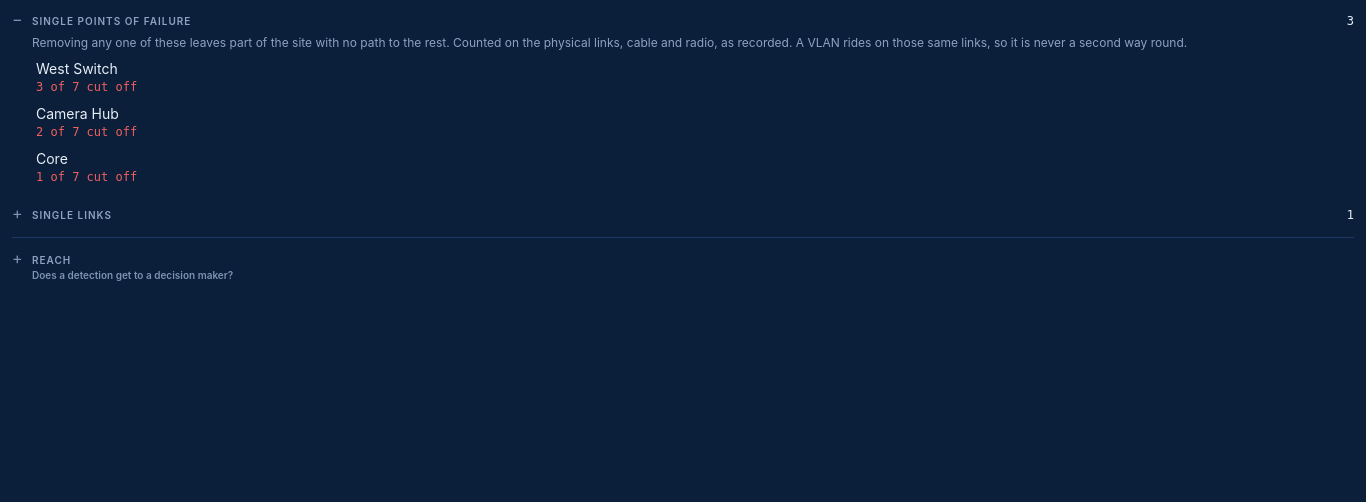
Scenario: Single links › names what a single link cuts off
The image size is (1366, 502).
Click the button "+ Single links 1" at [72, 215], box [12,197,1354,229]
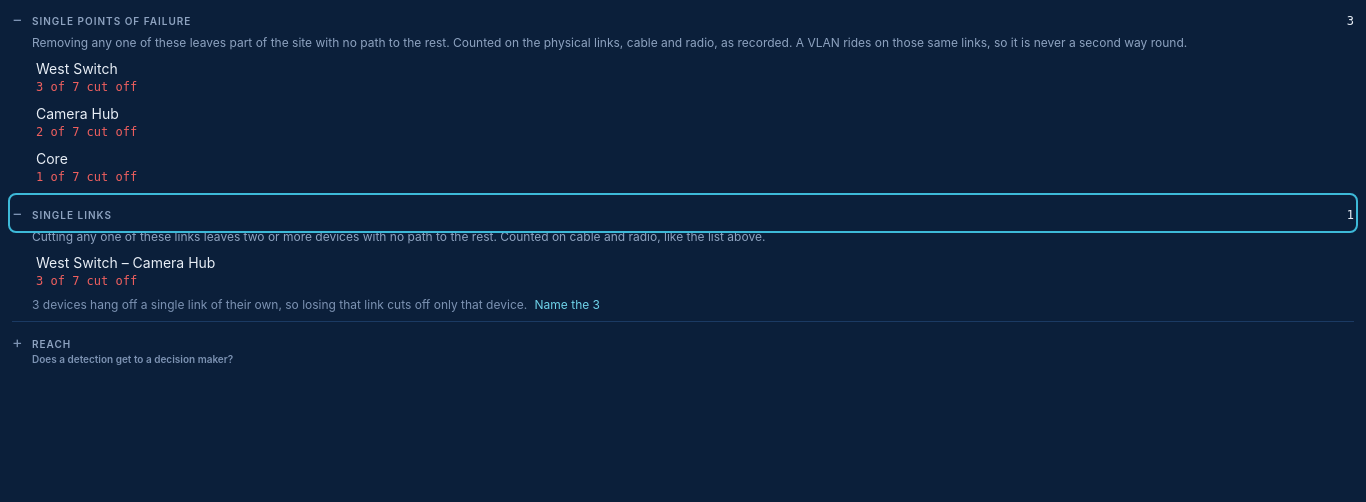
Click the button "West Switch – Camera Hub 3 of 7 cut off" at [77, 262], box [32,249,1354,293]
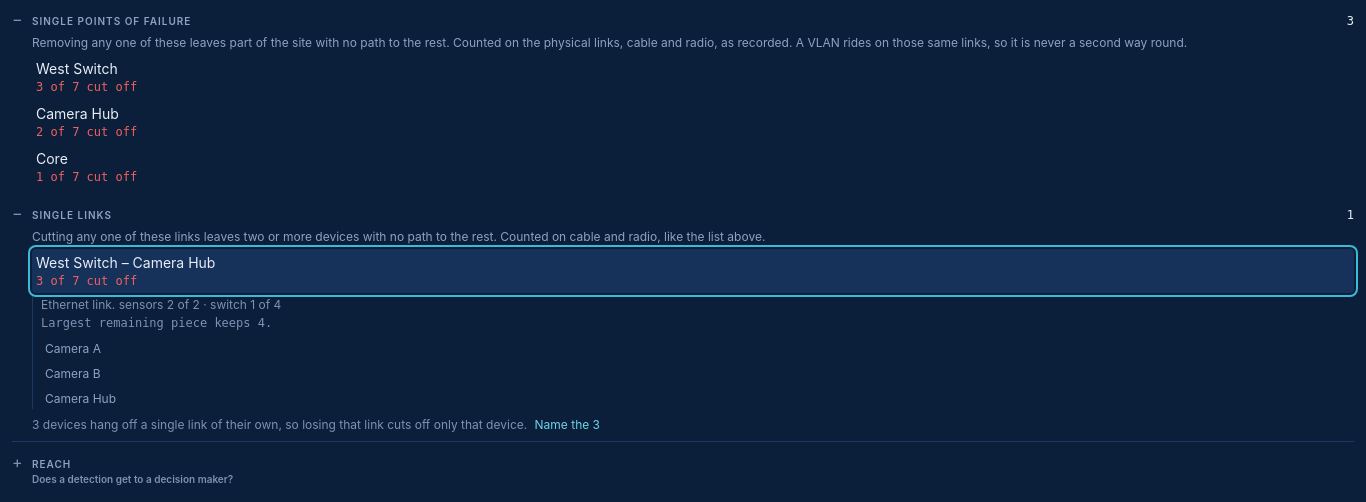
Now the button "West Switch – Camera Hub 3 of 7 cut off" is expanded, box [32,249,1354,293]
Now the text "Ethernet link. sensors 2 of 2 · switch 1 of 4" is shown, box [41,297,281,312]
Now the button "Camera Hub" is shown, box [41,389,1354,409]
